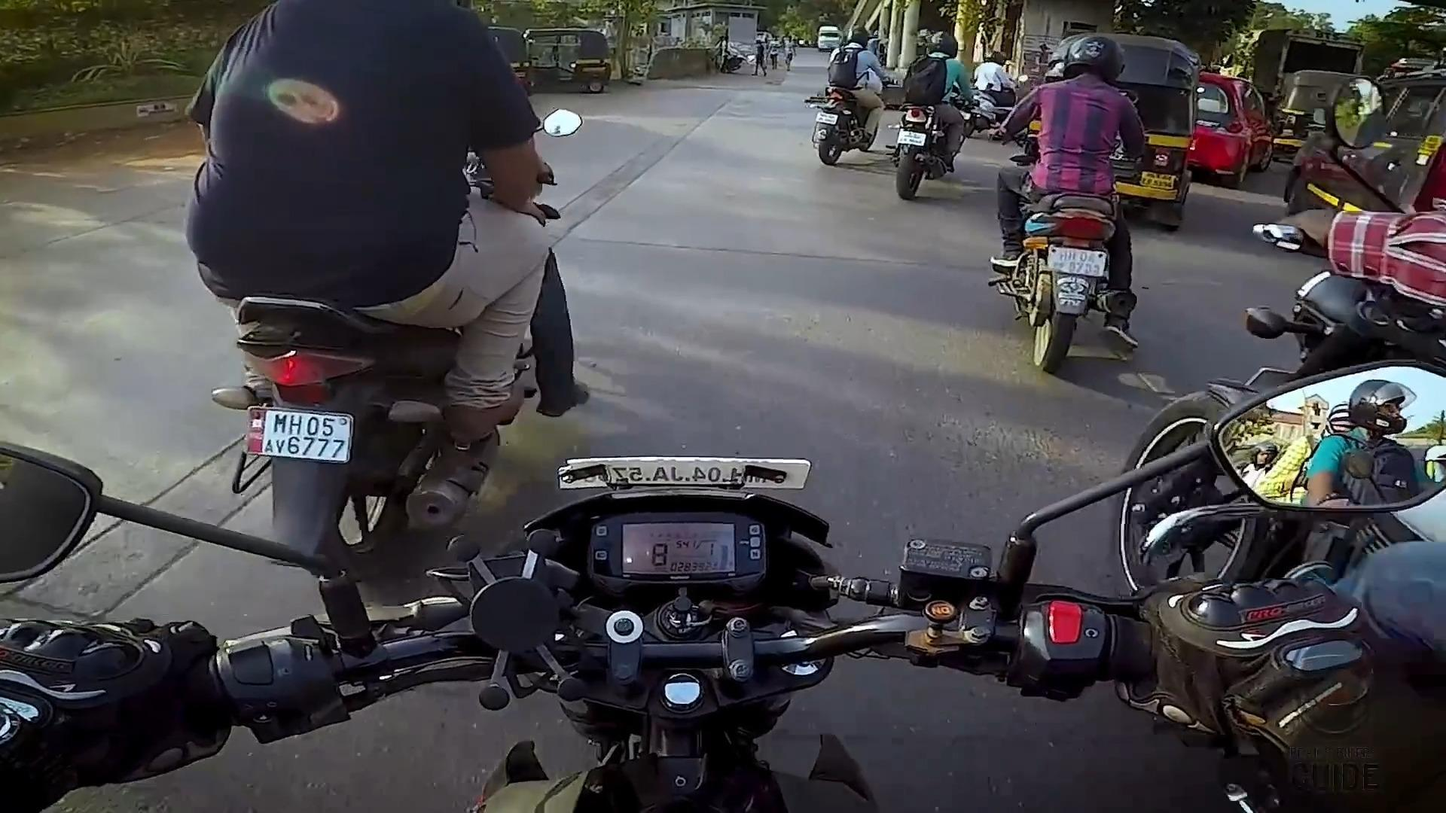Helmet: (1054, 21, 1131, 91), (923, 26, 966, 64), (842, 17, 877, 52)
bike: (202, 97, 583, 564), (985, 95, 1144, 378), (891, 79, 974, 205), (809, 62, 891, 163)
number-plate: (246, 401, 353, 464), (1044, 243, 1107, 280)
rider: (187, 5, 548, 441), (992, 24, 1147, 352), (906, 24, 977, 165), (828, 19, 884, 141)
